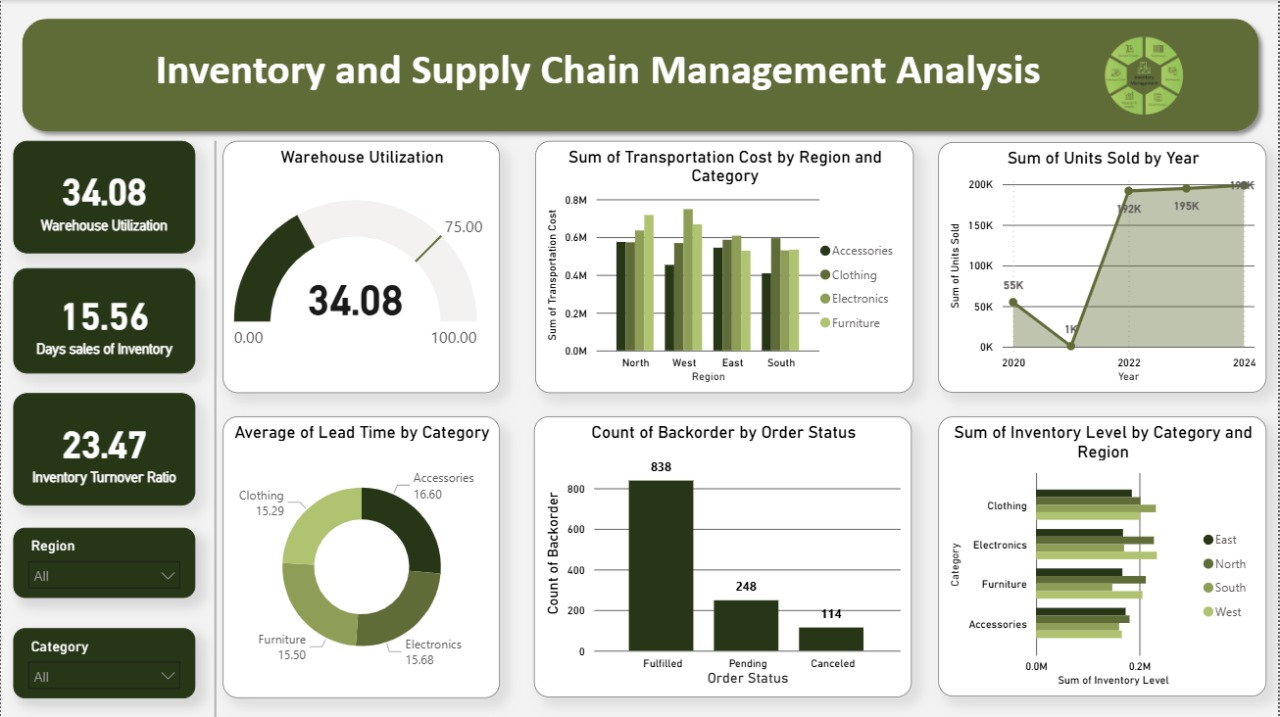

What the dashboard file says about the page in this screenshot:
{"tool":"powerbi","page":{"name":"Page 1","canvas":[1280,720],"ordinal":0},"visuals":[{"type":"shape","box":[11.8,10.3,1256.3,130.8],"z":0},{"type":"textbox","box":[133.7,38.2,928.7,74.9],"z":1000},{"type":"image","box":[1049.1,25,191,102.9],"z":2000},{"type":"shape","box":[207.2,141.1,14.7,578.9],"z":3000},{"type":"card","fields":{"Values":["Inventory and Supply Chain Dataset.Warehouse Utilization"]},"box":[11.8,141.1,182.2,113.1],"z":4000},{"type":"card","fields":{"Values":["Inventory and Supply Chain Dataset.Days sales of Inventory"]},"box":[11.8,268.9,182.2,105.8],"z":5000},{"type":"card","fields":{"Values":["Inventory and Supply Chain Dataset.Inventory Turnover Ratio"]},"box":[11.8,393.8,182.2,113.1],"z":6000},{"type":"slicer","fields":{"Values":["Inventory and Supply Chain Dataset.Region"]},"box":[11.8,529,182.2,70.5],"z":7000},{"type":"slicer","fields":{"Values":["Inventory and Supply Chain Dataset.Category"]},"box":[11.8,628.9,182.2,70.5],"z":8000},{"type":"gauge","fields":{"Y":["Inventory and Supply Chain Dataset.Warehouse Utilization"]},"box":[221.9,141.1,277.7,252.7],"z":9000},{"type":"clusteredColumnChart","fields":{"Y":["Sum(Inventory and Supply Chain Dataset.Transportation Cost)"],"Category":["Inventory and Supply Chain Dataset.Region"],"Series":["Inventory and Supply Chain Dataset.Category"]},"box":[534.9,141.1,379.1,252.7],"z":10000},{"type":"lineChart","fields":{"Y":["Sum(Inventory and Supply Chain Dataset.Units Sold)"],"Category":["Inventory and Supply Chain Dataset.Date.Variation.Date Hierarchy.Year"]},"box":[938.9,142.5,329.1,251.3],"z":11000},{"type":"donutChart","fields":{"Y":["Sum(Inventory and Supply Chain Dataset.Lead Time)"],"Category":["Inventory and Supply Chain Dataset.Category"]},"box":[221.9,417.3,277.7,282.1],"z":12000},{"type":"columnChart","fields":{"Y":["CountNonNull(Inventory and Supply Chain Dataset.Backorder)"],"Category":["Inventory and Supply Chain Dataset.Order Status"]},"box":[534.3,417.1,378.6,281.4],"z":13000},{"type":"clusteredBarChart","fields":{"Y":["Sum(Inventory and Supply Chain Dataset.Inventory Level)"],"Category":["Inventory and Supply Chain Dataset.Category"],"Series":["Inventory and Supply Chain Dataset.Region"]},"box":[939,417,329,281],"z":14000}]}

Visuals, with their boxes in screenshot pixels (x1, y1, x2, y2), scaled from the page's 1280x720 canvas onto the 1280x717 screenshot:
shape: [left=12, top=10, right=1268, bottom=141]
textbox: [left=134, top=38, right=1062, bottom=113]
image: [left=1049, top=25, right=1240, bottom=127]
shape: [left=207, top=141, right=222, bottom=716]
card - Inventory and Supply Chain Dataset.Warehouse Utilization: [left=12, top=141, right=194, bottom=253]
card - Inventory and Supply Chain Dataset.Days sales of Inventory: [left=12, top=268, right=194, bottom=373]
card - Inventory and Supply Chain Dataset.Inventory Turnover Ratio: [left=12, top=392, right=194, bottom=505]
slicer - Inventory and Supply Chain Dataset.Region: [left=12, top=527, right=194, bottom=597]
slicer - Inventory and Supply Chain Dataset.Category: [left=12, top=626, right=194, bottom=696]
gauge - Inventory and Supply Chain Dataset.Warehouse Utilization: [left=222, top=141, right=500, bottom=392]
clusteredColumnChart - Sum(Inventory and Supply Chain Dataset.Transportation Cost) x Inventory and Supply Chain Dataset.Region: [left=535, top=141, right=914, bottom=392]
lineChart - Sum(Inventory and Supply Chain Dataset.Units Sold) x Inventory and Supply Chain Dataset.Date.Variation.Date Hierarchy.Year: [left=939, top=142, right=1268, bottom=392]
donutChart - Sum(Inventory and Supply Chain Dataset.Lead Time) x Inventory and Supply Chain Dataset.Category: [left=222, top=416, right=500, bottom=696]
columnChart - CountNonNull(Inventory and Supply Chain Dataset.Backorder) x Inventory and Supply Chain Dataset.Order Status: [left=534, top=415, right=913, bottom=696]
clusteredBarChart - Sum(Inventory and Supply Chain Dataset.Inventory Level) x Inventory and Supply Chain Dataset.Category: [left=939, top=415, right=1268, bottom=695]
